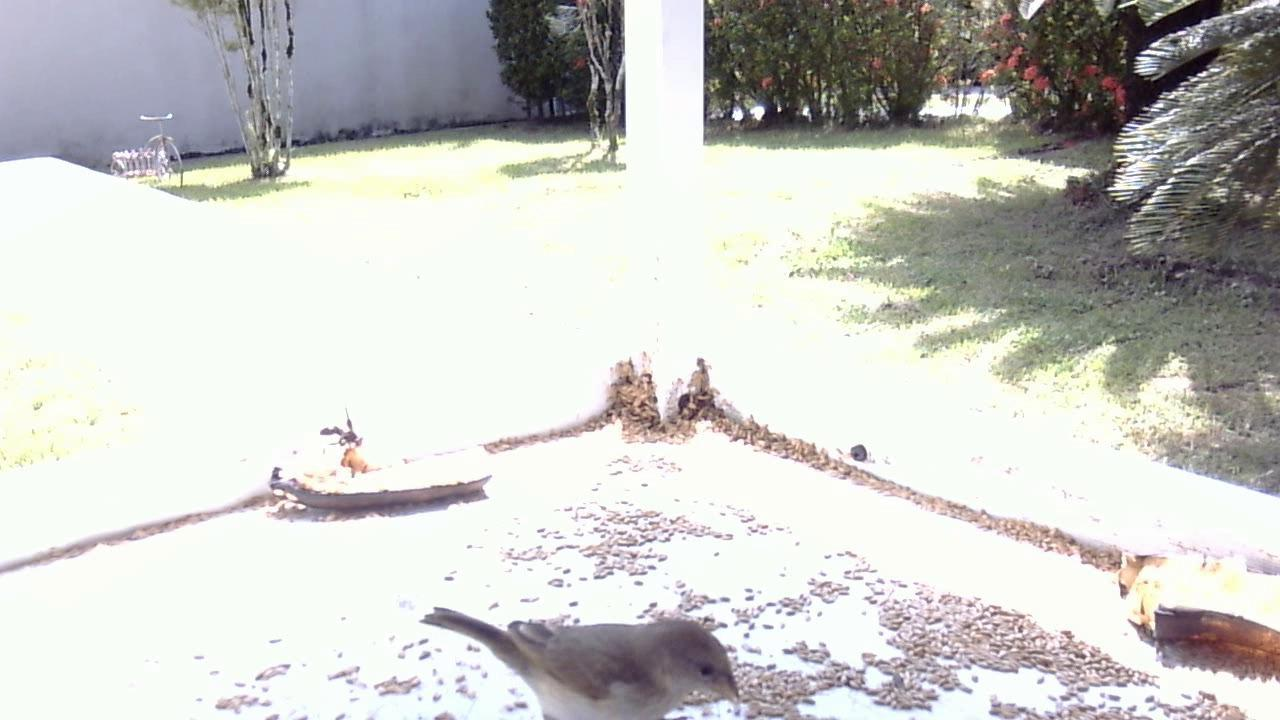canario_do_amazonas: (409, 601, 737, 716)
